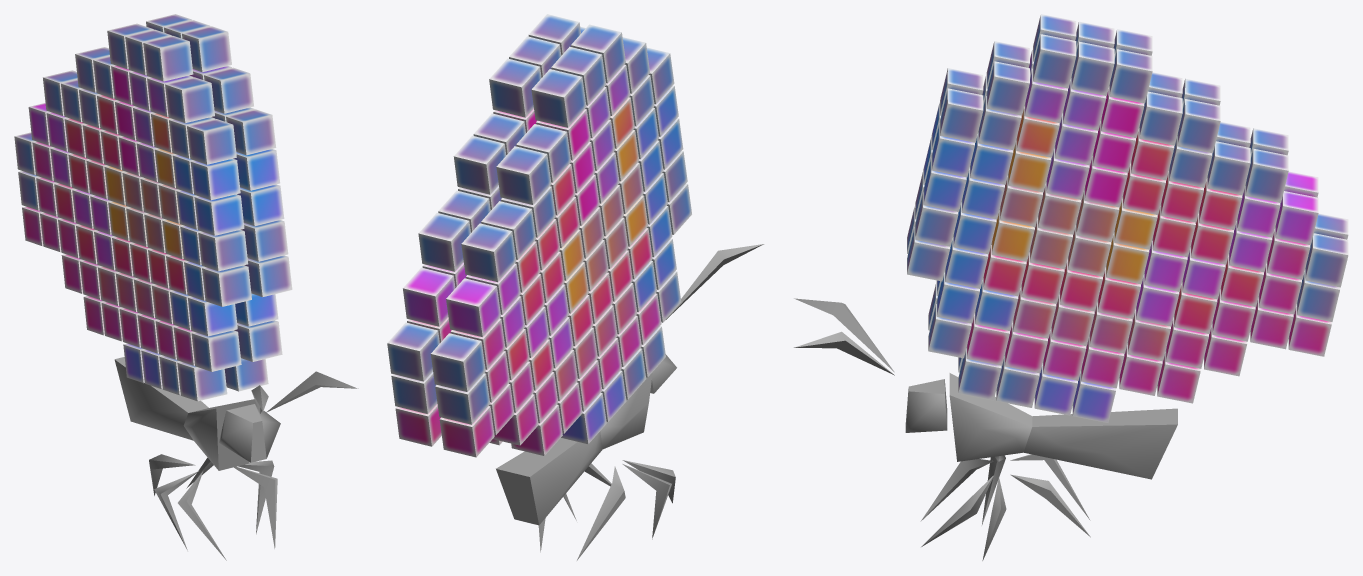
The model's file is RobotButterfly.fbx.
3 renders of one model, left to right at view 1: azimuth 30°, elevation 25°; view 2: azimuth 150°, elevation 25°; view 3: azimuth 270°, elevation 25°, orthographic. The views are drawn at different scales.
Parts seen in each view (by area): view 1: ButterFlyRightWing, ButterFlyLeftWing, ButterFlyBody, ButterFlyRightLegs, ButterFlyLeftLegs; view 2: ButterFlyRightWing, ButterFlyLeftWing, ButterFlyBody, ButterFlyRightLegs; view 3: ButterFlyLeftWing, ButterFlyBody, ButterFlyRightWing, ButterFlyLeftLegs, ButterFlyRightLegs.
Part boxes in pixels (box(x1,y1,x2,y2)): ButterFlyRightWing: box(14, 23, 251, 401); ButterFlyLeftWing: box(146, 14, 292, 391); ButterFlyBody: box(114, 357, 358, 470); ButterFlyRightLegs: box(149, 454, 226, 560); ButterFlyLeftLegs: box(186, 457, 277, 548); ButterFlyRightWing: box(430, 24, 691, 457); ButterFlyLeftWing: box(387, 14, 585, 446); ButterFlyBody: box(496, 244, 763, 525); ButterFlyRightLegs: box(577, 460, 675, 560); ButterFlyLeftWing: box(907, 34, 1348, 422); ButterFlyBody: box(794, 298, 1177, 479); ButterFlyRightWing: box(907, 14, 1348, 372); ButterFlyLeftLegs: box(921, 474, 1090, 560); ButterFlyRightLegs: box(920, 454, 1090, 524).
Size of the model in its own units: 2.65 by 10.34 by 10.14.
Materials: 2 (1 with a texture image).
